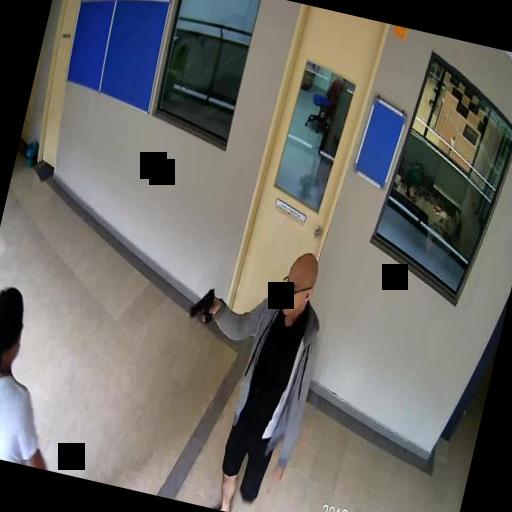Handgun: (187, 282, 218, 326)
